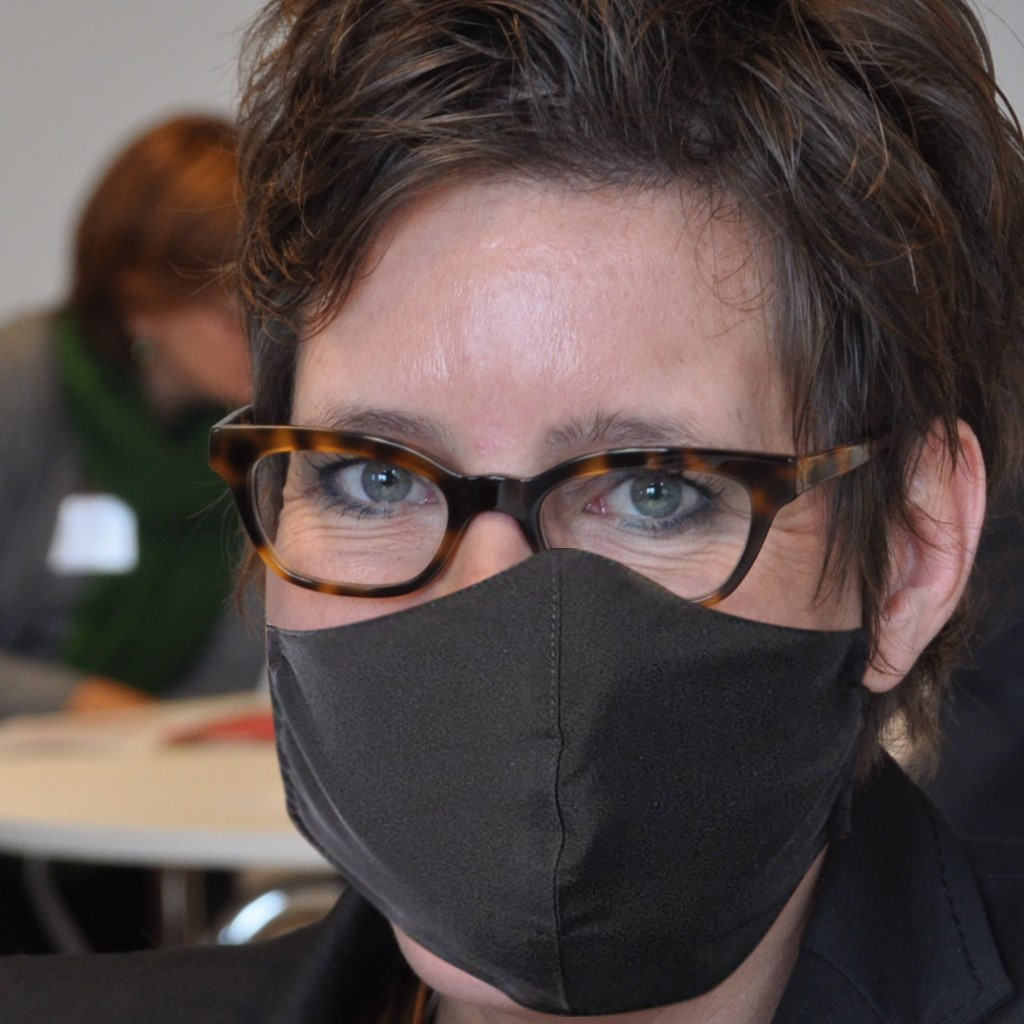con_mascara: (240, 49, 925, 959)
